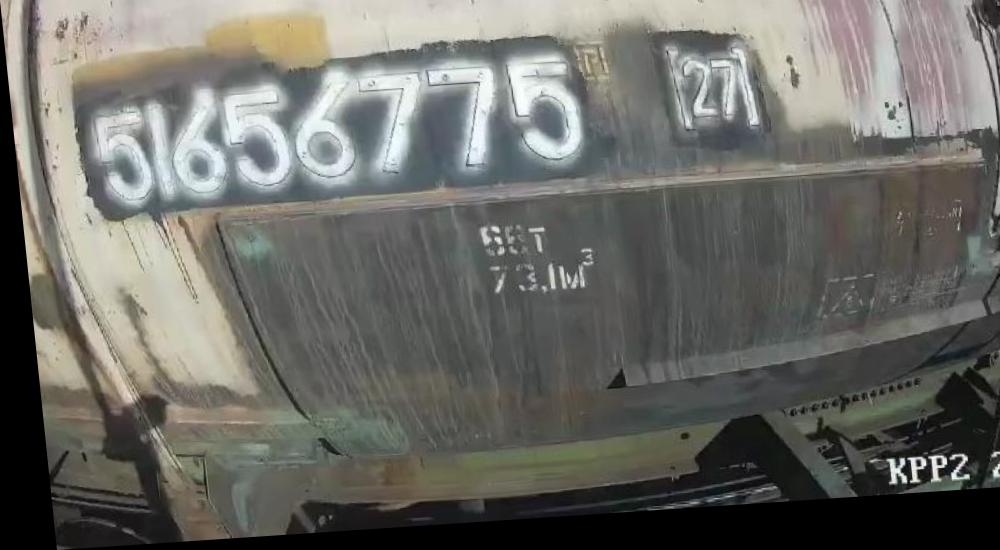Wagon-number: (82, 59, 589, 212)
